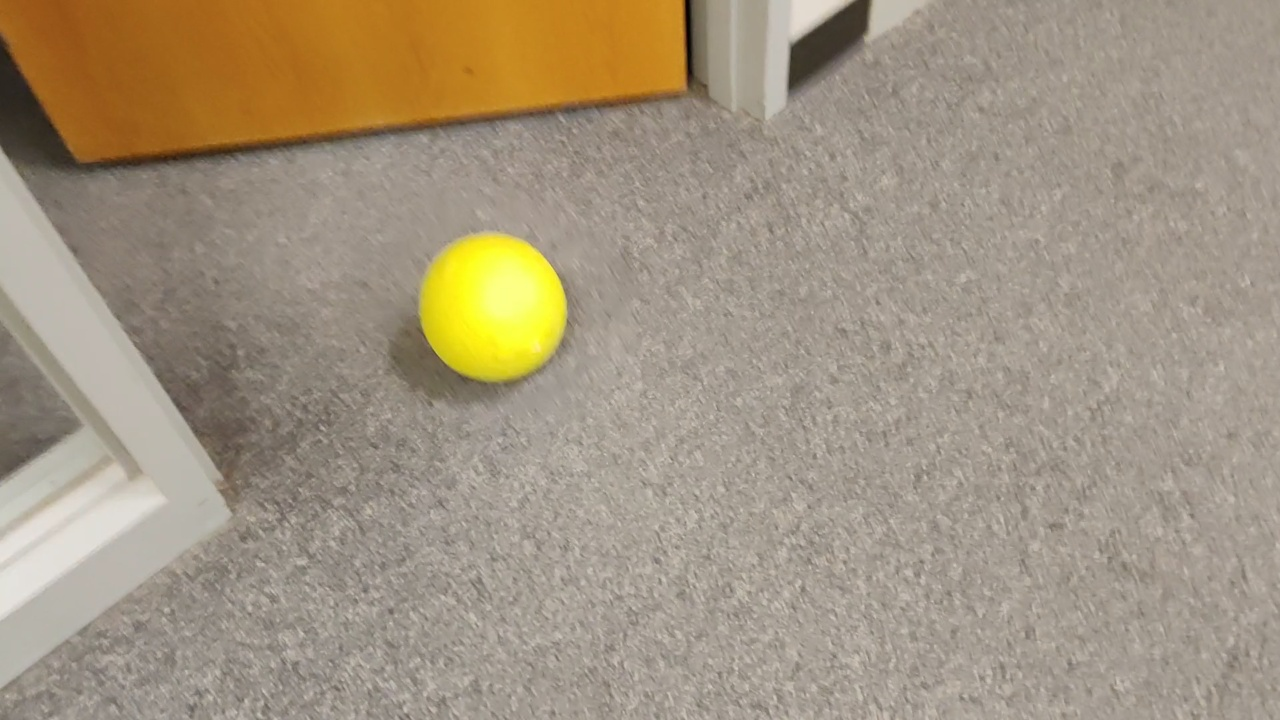Ball: (411, 233, 568, 391)
